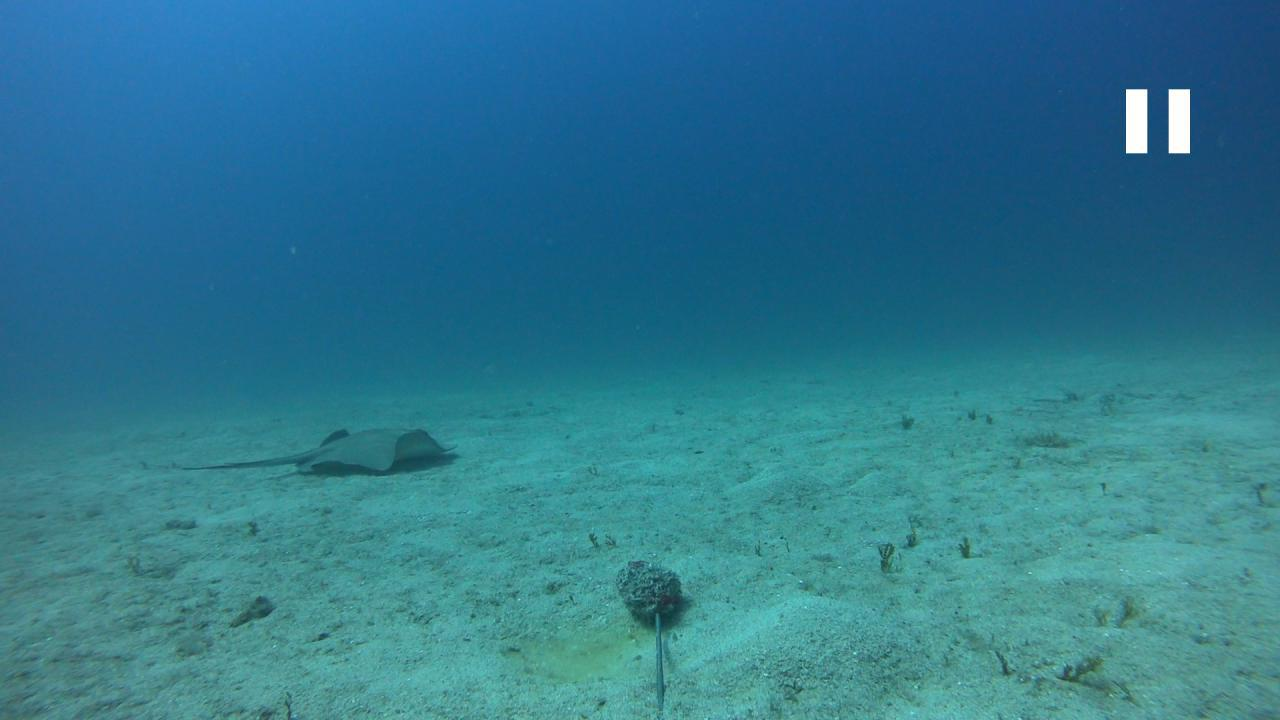dasyatis: (180, 424, 458, 474)
